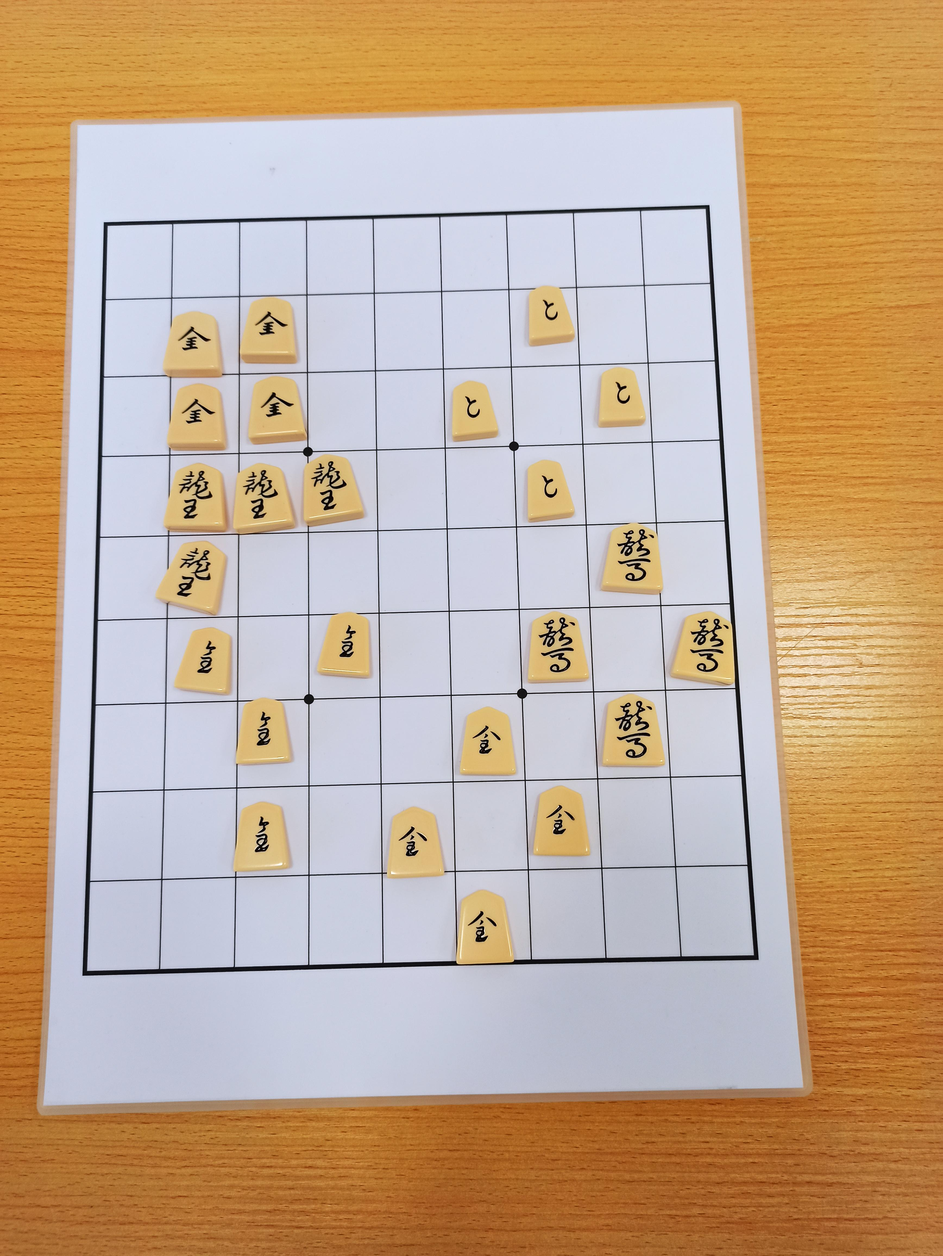board: (85, 208, 755, 975)
